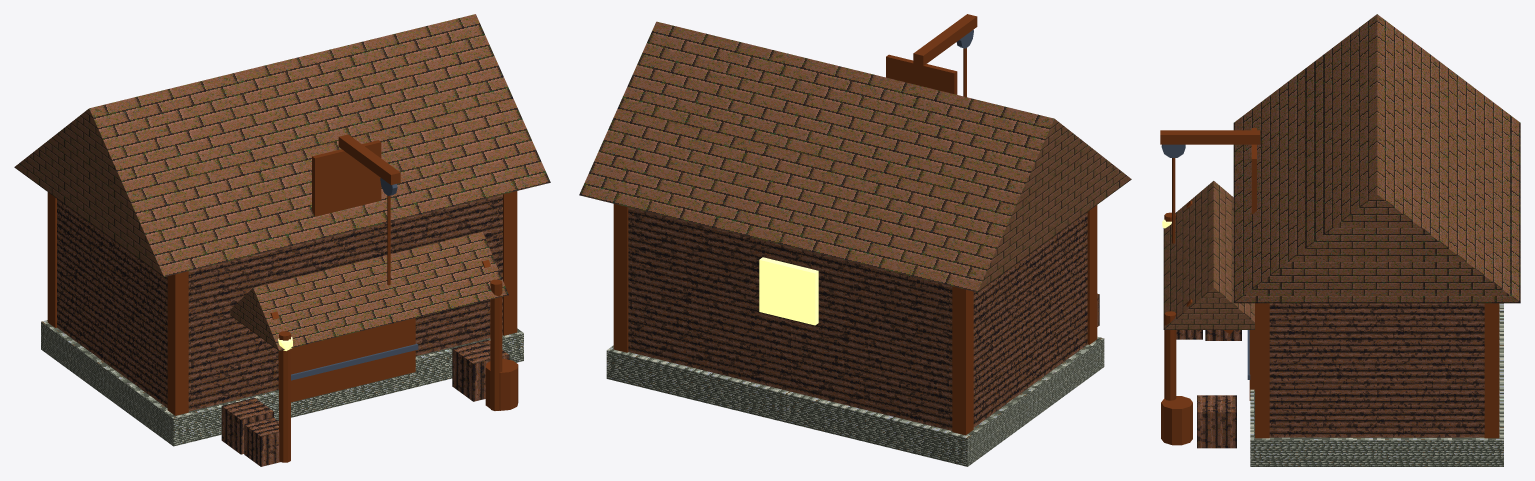
Rendered from almacen.glb.
3 renders of one model, left to right at view 1: azimuth 30°, elevation 25°; view 2: azimuth 150°, elevation 25°; view 3: azimuth 270°, elevation 25°, orthographic. The views are drawn at different scales.
Visible parts, largest first — view 1: Almacen_Techo, Cube.001, Almacen_Canopy, Cube, Cube.008, Cube.011, Cube.002, Cube.004, Cube.015, Cube.013, Cylinder.001, Cube.014 (+5 smaller); view 2: Almacen_Techo, Cube.001, Cube, Cube.016, Cube.003, Cube.005, Cube.011, Cube.002, Cube.012; view 3: Almacen_Techo, Cube.001, Almacen_Canopy, Cube, Cube.005, Cube.015, Cube.004, Cube.012, Cylinder.004, Cylinder.001, Cube.011, Cube.013 (+1 smaller).
Part boxes in pixels (x1,y1,x2,y2): Almacen_Techo: (14, 14, 550, 276); Cube.001: (57, 194, 502, 411); Almacen_Canopy: (230, 231, 508, 350); Cube: (41, 320, 523, 446); Cube.008: (278, 318, 415, 402); Cube.011: (312, 140, 381, 216); Cube.002: (167, 271, 188, 415); Cube.004: (503, 191, 517, 335); Cube.015: (452, 340, 509, 401); Cube.013: (221, 398, 273, 454); Cylinder.001: (490, 279, 502, 410); Cube.014: (244, 417, 280, 466); Almacen_Techo: (579, 21, 1131, 292); Cube.001: (628, 207, 1087, 430); Cube: (606, 336, 1104, 466); Cube.016: (759, 257, 818, 325); Cube.003: (952, 286, 973, 435); Cube.005: (613, 204, 628, 352); Cube.011: (886, 54, 957, 94); Cube.002: (1087, 205, 1097, 344); Cube.012: (913, 14, 977, 66); Almacen_Techo: (1233, 14, 1520, 303); Cube.001: (1269, 303, 1484, 437); Almacen_Canopy: (1163, 181, 1254, 329); Cube: (1250, 303, 1503, 466); Cube.005: (1484, 303, 1499, 438); Cube.015: (1197, 395, 1236, 448); Cube.004: (1255, 303, 1269, 438); Cube.012: (1160, 130, 1260, 144); Cylinder.004: (1161, 396, 1192, 445); Cylinder.001: (1164, 311, 1176, 400); Cube.011: (1251, 128, 1256, 214); Cube.013: (1205, 330, 1241, 340).
Bounding box in the file's own units: 6.4 × 4.68 × 5.4.
Materials: 7 (3 with a texture image).
